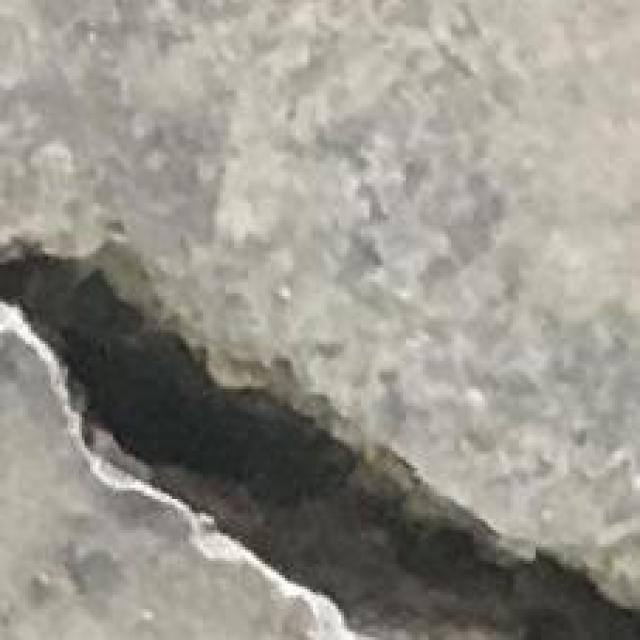diagonal crack: (0, 255, 639, 639)
